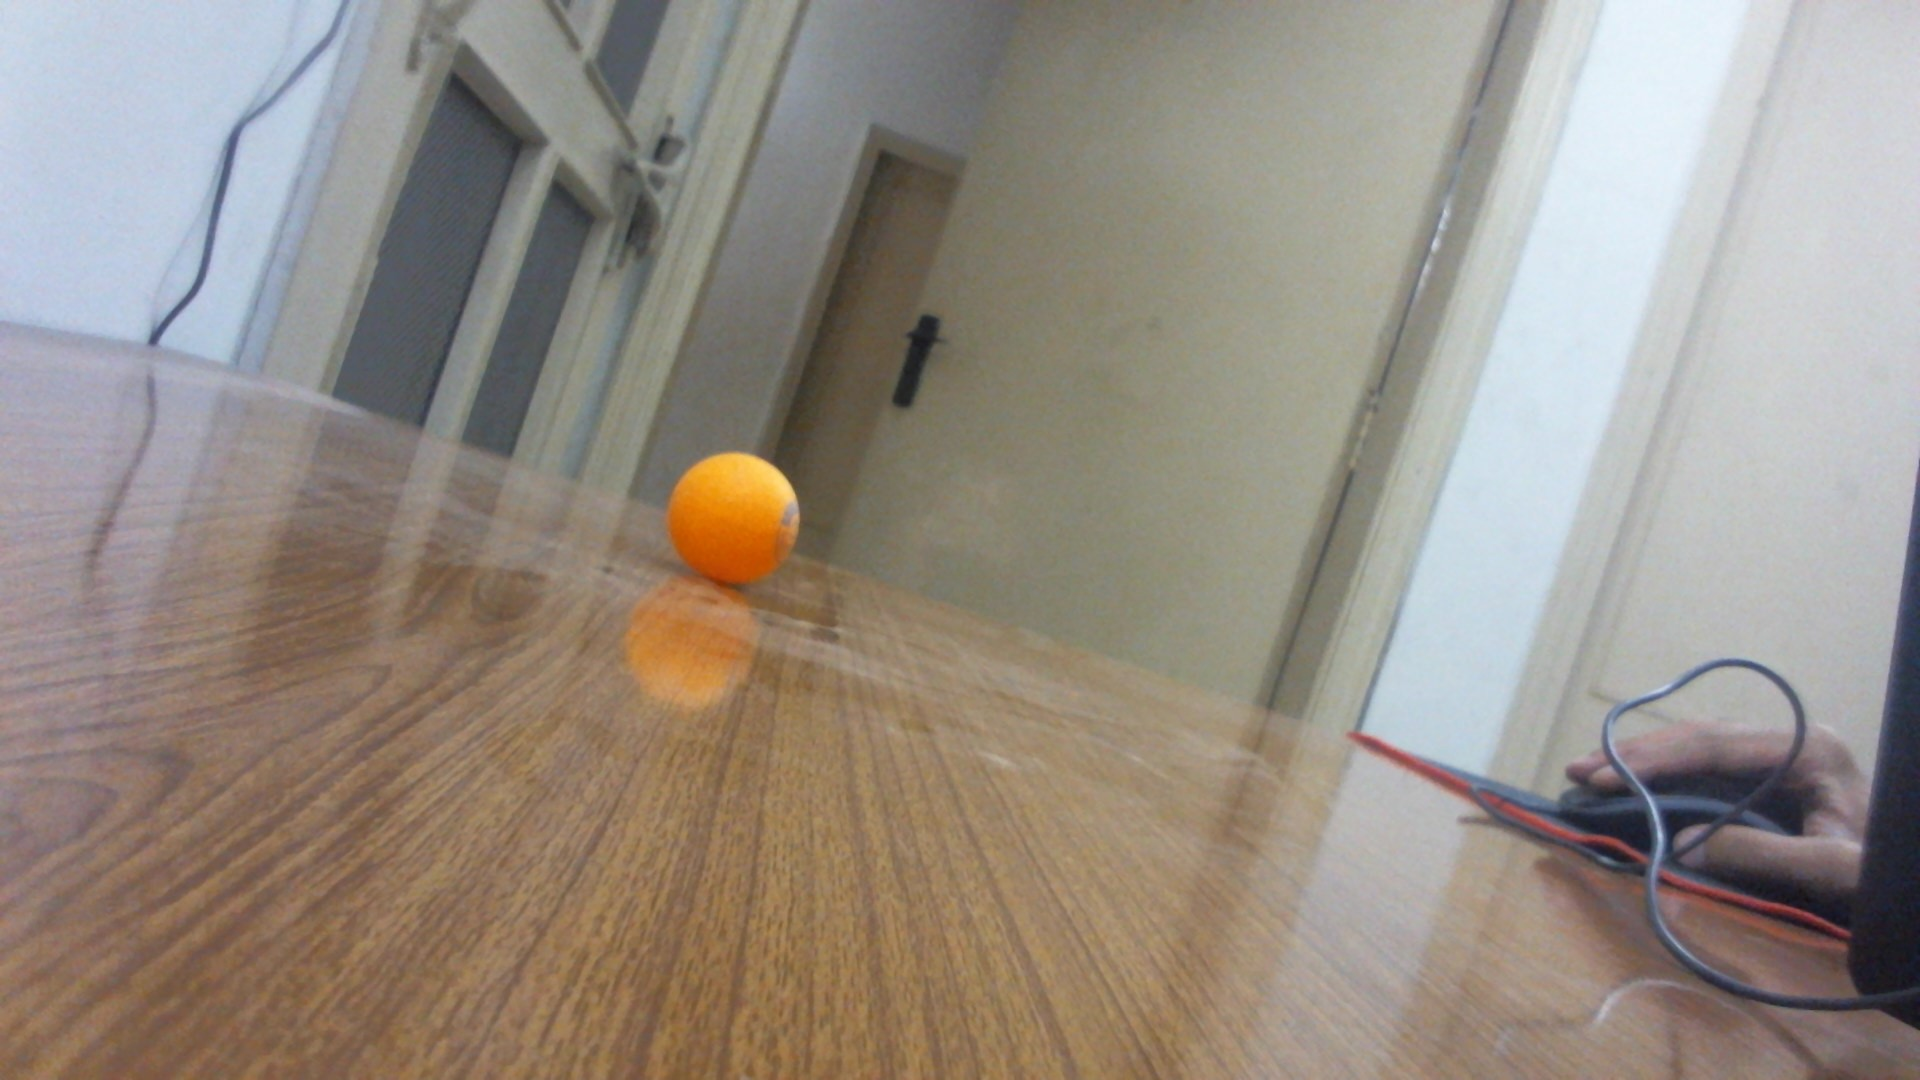ball: (666, 452, 800, 589)
